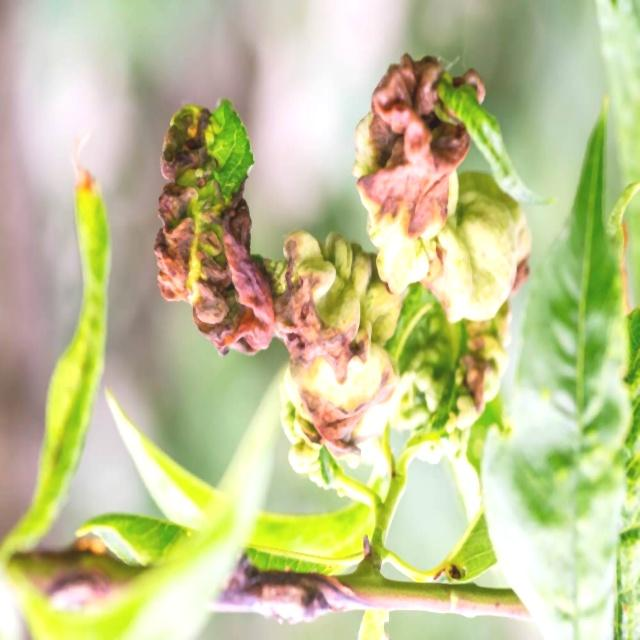leaf_curl: (100, 80, 365, 389), (333, 9, 499, 330)
